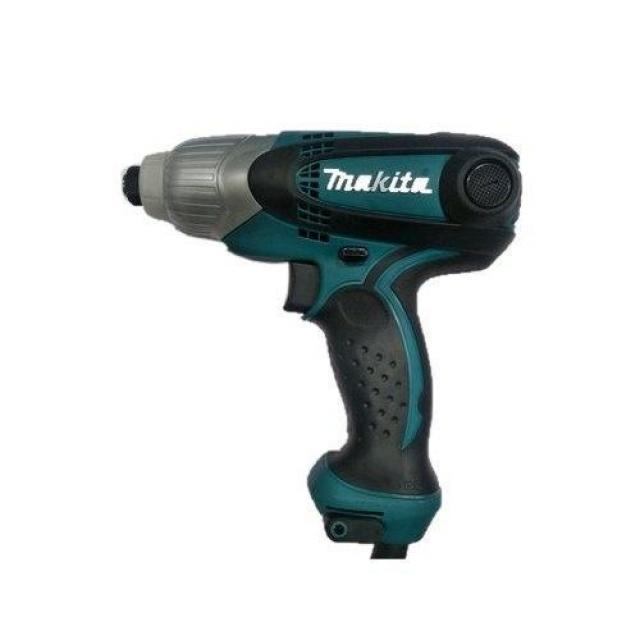drill: (121, 130, 523, 559)
